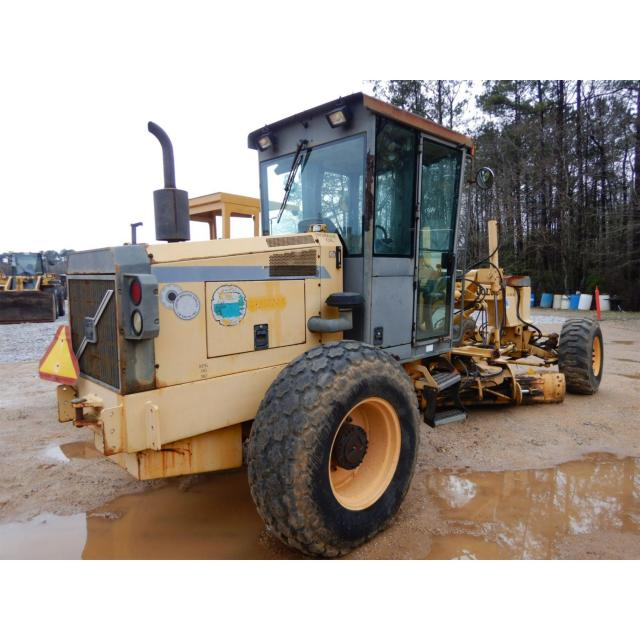Grader: (39, 56, 640, 550)
